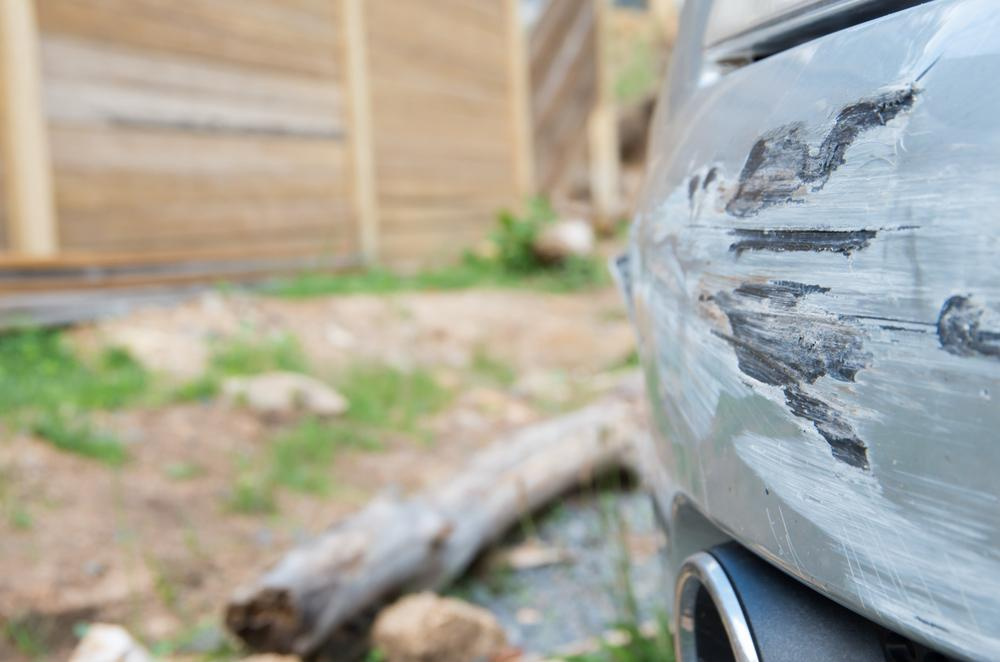scratch: (627, 53, 1000, 662)
